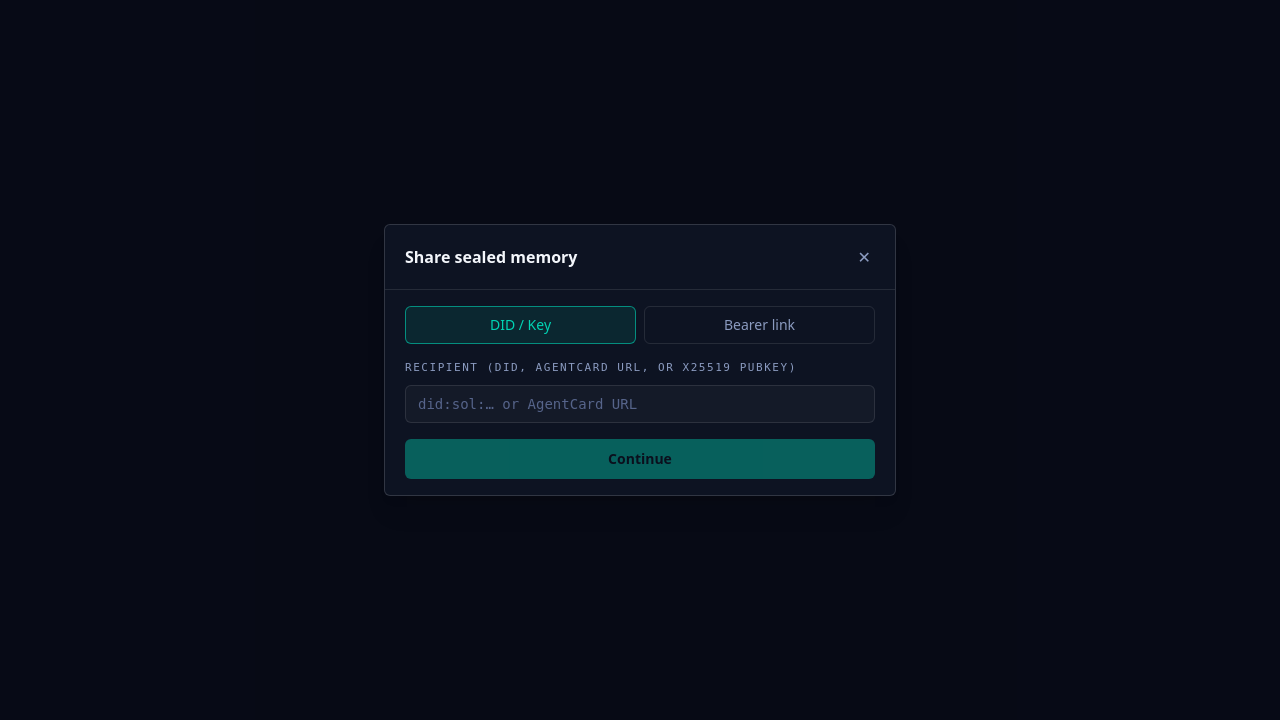
Test: ShareDialog › shows_no_revocation_warning_after_proceed_in_link_mode
# Switch to link mode.
Click the button with test id "share-mode-link" at x=760, y=325, box [644, 306, 875, 344]
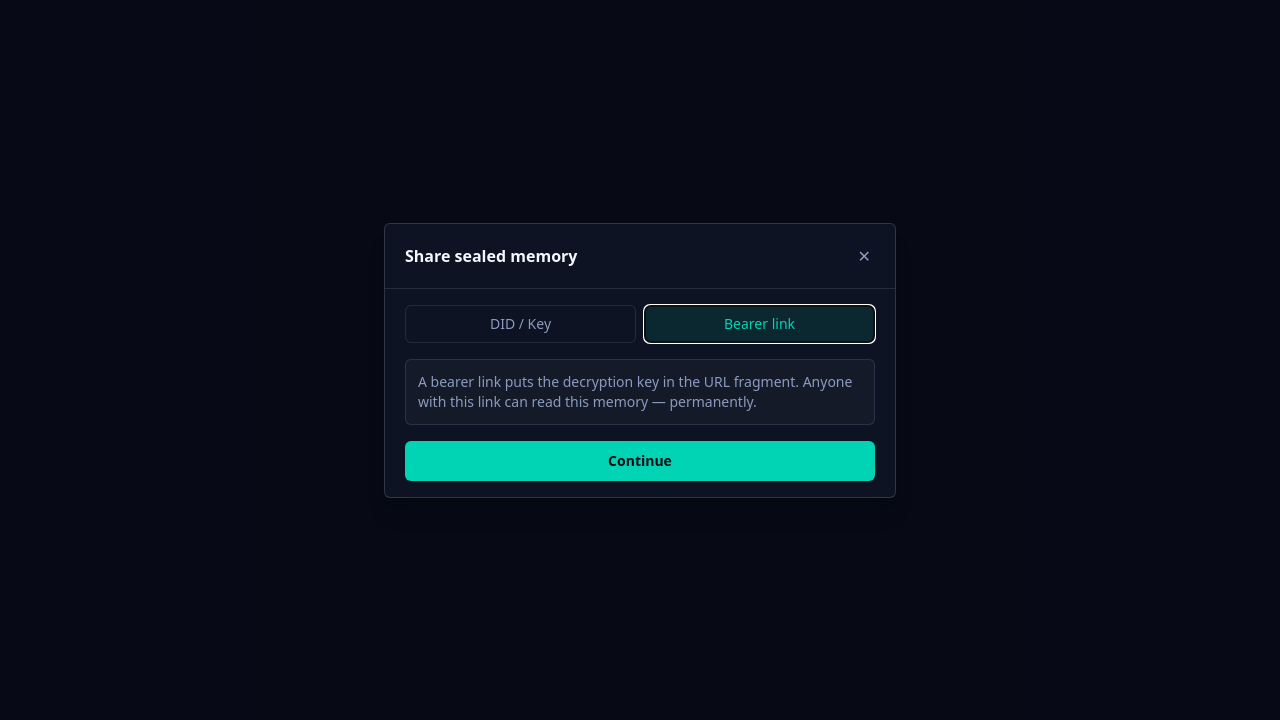
Click the button with test id "share-proceed" at x=640, y=460, box [405, 440, 875, 480]
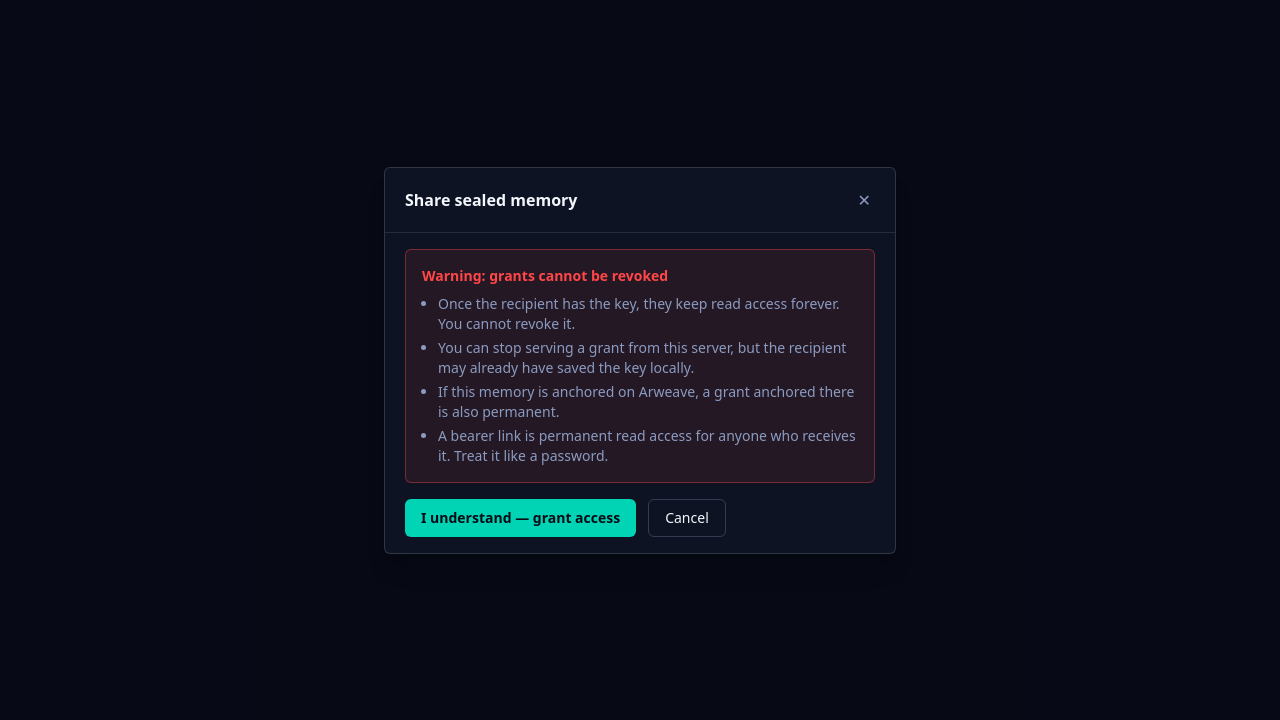
Expected: the element with test id "share-warn" is shown, [405, 248, 875, 536]
Expected: the list item "bearer link is permanent read access" is shown, [438, 426, 856, 464]
